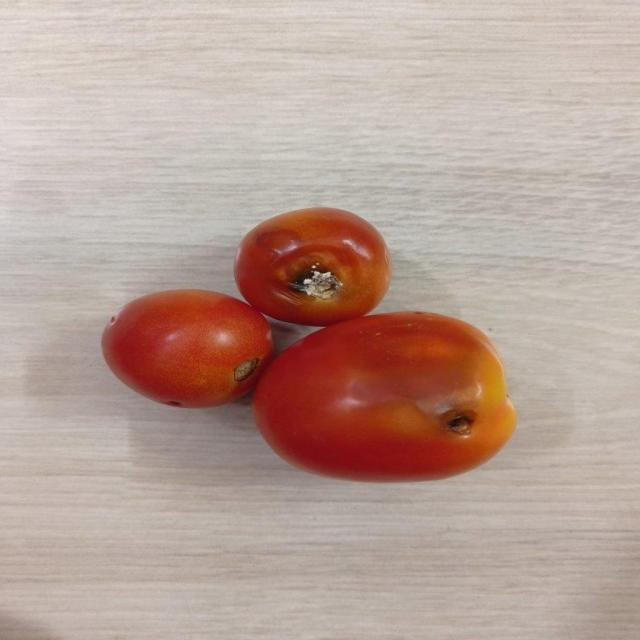Rotten: (252, 315, 518, 483), (234, 206, 394, 322)
